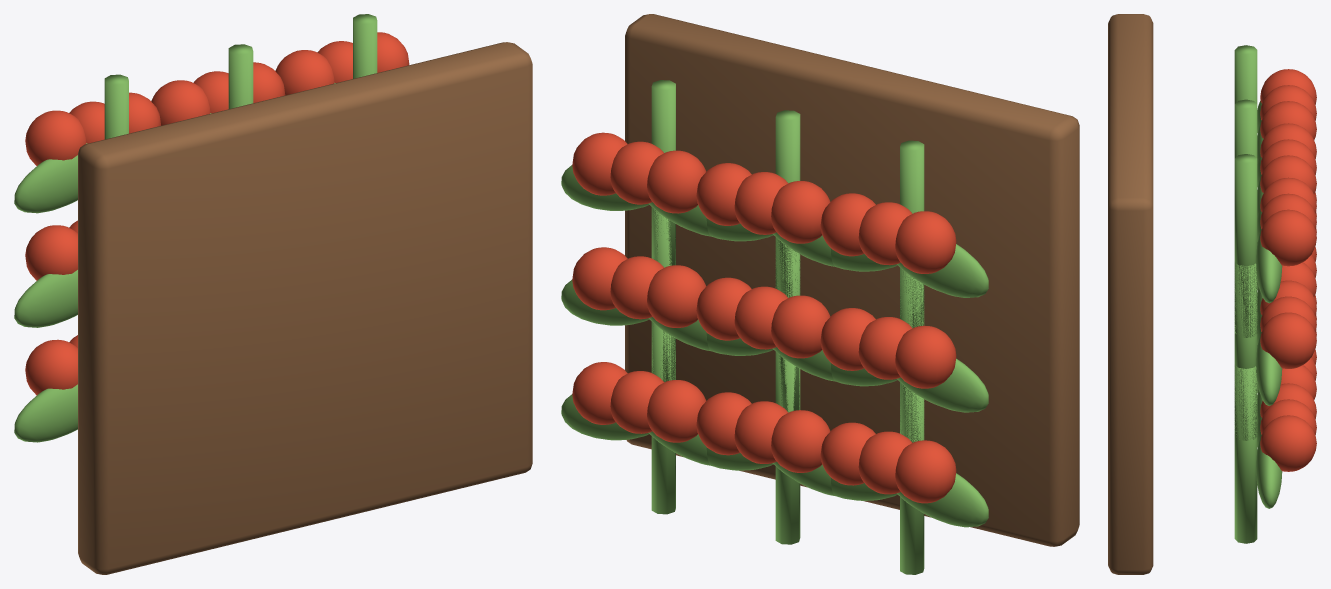
Rendered from tomato_growing.glb.
3 views of the same model, side by side, from view 1: azimuth 30°, elevation 25°; view 2: azimuth 150°, elevation 25°; view 3: azimuth 270°, elevation 25° (orthographic). The views are drawn at different scales.
Parts seen in each view (by area): view 1: Soil, Leaf.004, Leaf.002, Leaf, Fruit.006, Fruit.003, Fruit, Fruit.015, Fruit.024, Stem.005, Stem.002, Stem.008 (+6 smaller); view 2: Soil, Fruit, Fruit.006, Fruit.003, Fruit.012, Fruit.024, Fruit.015, Fruit.018, Fruit.009, Fruit.021, Stem.006, Stem (+43 smaller); view 3: Soil, Stem.006, Stem.008, Stem.007, Fruit.020, Fruit.026, Fruit.023, Stem.005, Stem.002, Fruit.008, Fruit.017, Leaf.013 (+14 smaller).
Part boxes in pixels (x1=…): Soil: x1=78, y1=42, x2=532, y2=574; Leaf.004: x1=14, y1=143, x2=87, y2=213; Leaf.002: x1=14, y1=270, x2=77, y2=327; Leaf: x1=14, y1=384, x2=77, y2=442; Fruit.006: x1=25, y1=110, x2=86, y2=165; Fruit.003: x1=25, y1=225, x2=77, y2=280; Fruit: x1=25, y1=339, x2=77, y2=395; Fruit.015: x1=151, y1=80, x2=210, y2=125; Fruit.024: x1=275, y1=50, x2=334, y2=95; Stem.005: x1=228, y1=44, x2=253, y2=108; Stem.002: x1=104, y1=74, x2=128, y2=139; Stem.008: x1=353, y1=14, x2=377, y2=78; Soil: x1=625, y1=14, x2=1079, y2=546; Fruit: x1=895, y1=440, x2=956, y2=503; Fruit.006: x1=895, y1=211, x2=956, y2=273; Fruit.003: x1=895, y1=325, x2=956, y2=388; Fruit.012: x1=771, y1=295, x2=830, y2=358; Fruit.024: x1=647, y1=150, x2=706, y2=213; Fruit.015: x1=771, y1=181, x2=830, y2=243; Fruit.018: x1=647, y1=380, x2=706, y2=442; Fruit.009: x1=771, y1=410, x2=830, y2=472; Fruit.021: x1=647, y1=265, x2=706, y2=327; Stem.006: x1=651, y1=322, x2=675, y2=514; Stem: x1=900, y1=383, x2=924, y2=574; Soil: x1=1108, y1=14, x2=1153, y2=574; Stem.006: x1=1234, y1=365, x2=1257, y2=543; Stem.008: x1=1234, y1=154, x2=1257, y2=337; Stem.007: x1=1234, y1=262, x2=1257, y2=440; Fruit.020: x1=1260, y1=415, x2=1316, y2=471; Fruit.026: x1=1260, y1=209, x2=1316, y2=266; Fruit.023: x1=1260, y1=312, x2=1316, y2=368; Stem.005: x1=1234, y1=99, x2=1257, y2=158; Stem.002: x1=1234, y1=45, x2=1257, y2=103; Fruit.008: x1=1260, y1=101, x2=1316, y2=140; Fruit.017: x1=1260, y1=155, x2=1316, y2=194; Leaf.013: x1=1256, y1=434, x2=1282, y2=508.
Bounding box in the file's own units: 1.2 × 1.11 × 0.5522.
